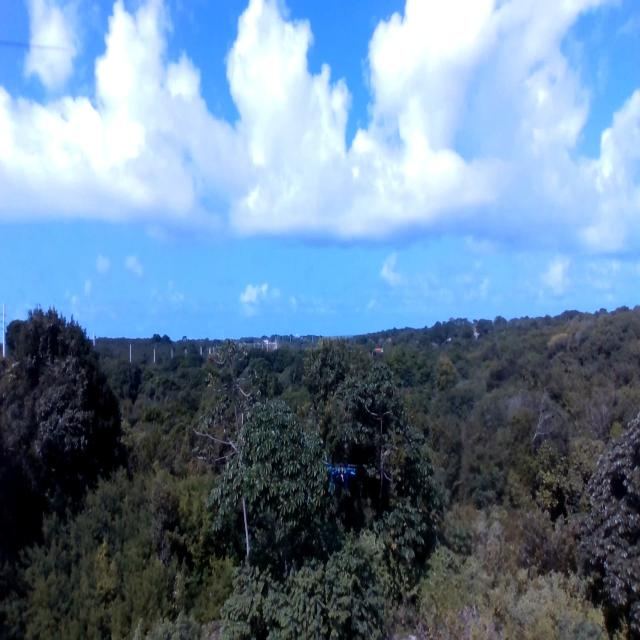-uav-: (320, 461, 362, 504)
